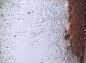Corrosion: (67, 1, 86, 63)
